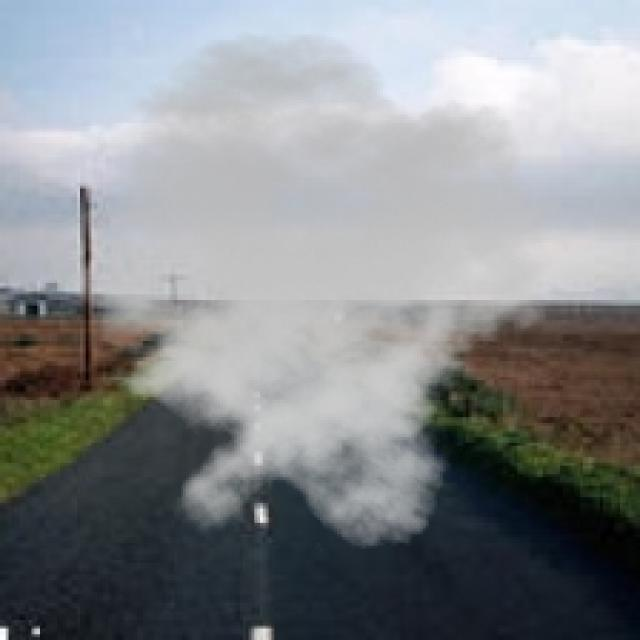Smoke: (31, 31, 580, 552)
